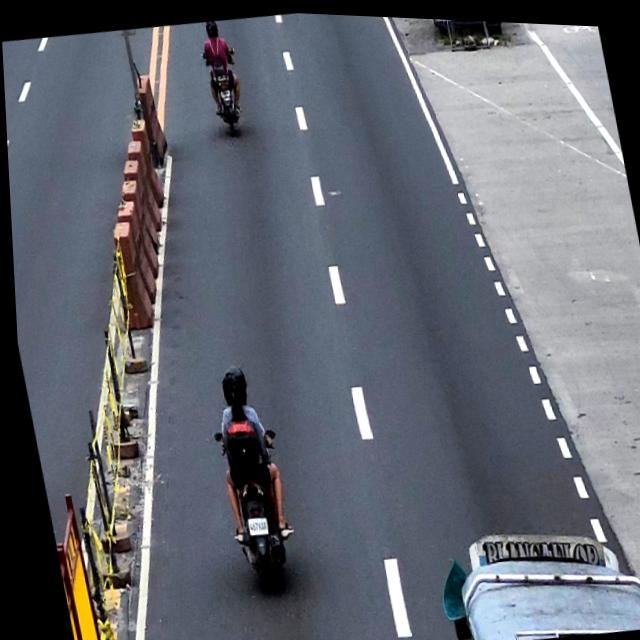License-Plate: (242, 513, 264, 535), (219, 87, 231, 97)
Motorcycle: (208, 419, 299, 598), (200, 44, 249, 136)
